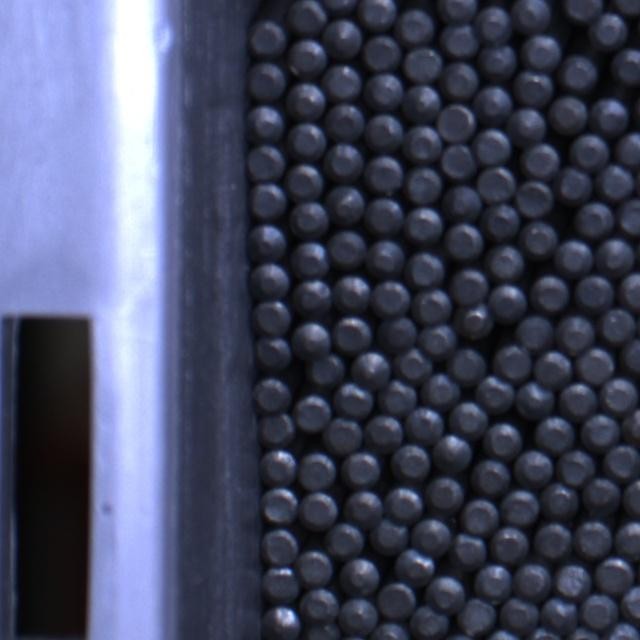tool: (553, 314, 594, 355), (595, 234, 636, 275), (409, 516, 452, 554), (572, 518, 612, 558), (591, 94, 631, 134), (454, 298, 494, 338), (426, 574, 467, 613), (553, 239, 593, 278), (514, 379, 554, 418), (433, 434, 473, 473), (579, 412, 619, 451), (540, 596, 579, 636), (499, 597, 539, 636), (488, 525, 529, 563), (593, 556, 634, 594), (588, 12, 629, 50), (549, 94, 588, 133), (513, 563, 552, 602), (293, 321, 332, 360), (474, 562, 513, 601), (287, 37, 326, 76), (323, 18, 362, 57), (576, 346, 616, 384), (598, 377, 638, 415), (569, 132, 609, 170), (457, 596, 497, 634), (492, 342, 532, 380), (514, 449, 554, 487), (404, 406, 444, 444), (580, 477, 620, 515), (508, 106, 548, 144), (558, 54, 598, 92), (396, 546, 436, 584), (339, 556, 379, 594), (250, 261, 290, 299), (475, 85, 513, 125), (438, 102, 476, 141), (576, 274, 615, 312), (554, 165, 592, 204), (383, 487, 422, 525), (459, 496, 498, 534), (334, 316, 373, 354), (345, 488, 383, 527), (530, 274, 569, 312), (330, 230, 368, 269), (328, 185, 366, 224), (339, 598, 378, 636), (485, 422, 524, 460), (447, 220, 486, 258), (501, 489, 541, 526), (369, 518, 409, 555), (412, 288, 452, 325), (540, 481, 580, 518), (395, 347, 435, 384), (363, 413, 403, 450), (376, 378, 417, 414), (300, 491, 338, 529), (488, 283, 526, 321), (328, 102, 366, 140), (367, 112, 405, 150), (287, 82, 325, 120), (334, 274, 372, 312), (248, 18, 286, 56), (294, 393, 333, 430), (299, 452, 338, 489), (576, 201, 615, 238), (378, 580, 417, 617), (372, 280, 411, 317), (553, 561, 592, 598), (537, 415, 576, 452), (352, 350, 391, 387), (427, 476, 466, 513), (398, 8, 437, 45), (404, 124, 443, 161), (443, 183, 482, 220), (475, 3, 512, 42), (326, 522, 366, 558), (556, 448, 596, 484), (408, 604, 448, 640), (420, 370, 460, 406), (535, 351, 573, 388), (602, 444, 639, 482), (598, 308, 636, 345), (262, 527, 300, 564), (450, 346, 487, 384), (285, 164, 323, 201), (476, 373, 514, 410), (247, 144, 284, 182), (248, 62, 286, 99), (288, 200, 326, 237), (450, 268, 488, 305), (334, 380, 372, 417), (248, 224, 286, 261), (261, 450, 298, 488), (515, 179, 554, 215), (579, 594, 618, 630), (596, 167, 635, 203), (324, 418, 363, 454), (477, 168, 516, 204), (420, 322, 459, 358), (522, 34, 561, 70), (449, 402, 488, 438), (378, 315, 417, 351), (288, 123, 325, 160), (452, 533, 489, 570), (533, 522, 571, 558), (516, 313, 554, 349), (558, 382, 596, 418), (393, 444, 431, 480), (366, 156, 404, 192), (408, 251, 446, 287), (404, 204, 442, 240), (365, 71, 403, 107), (486, 245, 524, 281), (368, 239, 406, 275), (366, 196, 404, 232), (303, 585, 341, 621), (325, 144, 363, 180), (522, 142, 560, 178), (404, 84, 442, 120), (292, 240, 330, 276), (472, 458, 511, 493), (262, 487, 299, 523), (255, 376, 292, 412), (295, 548, 332, 584), (326, 64, 363, 100), (262, 605, 300, 640), (364, 34, 402, 69), (343, 451, 381, 486), (404, 46, 442, 81), (254, 300, 292, 335), (442, 22, 480, 57), (286, 0, 326, 33), (406, 166, 442, 202), (522, 222, 558, 258), (250, 106, 286, 142), (260, 410, 296, 446), (263, 565, 300, 600), (256, 334, 293, 369), (518, 70, 556, 104), (292, 278, 330, 312), (476, 128, 512, 163), (252, 183, 288, 218), (444, 62, 479, 98), (512, 0, 552, 31), (358, 0, 397, 30), (441, 143, 475, 177), (308, 354, 344, 386), (611, 48, 640, 86), (614, 518, 640, 560), (438, 0, 479, 24), (560, 0, 604, 22), (616, 196, 640, 234), (618, 270, 640, 311), (615, 129, 640, 165), (369, 621, 411, 640), (620, 585, 640, 623), (621, 407, 640, 447), (622, 475, 640, 517), (599, 621, 638, 640), (621, 338, 640, 374), (564, 626, 601, 640), (522, 628, 564, 640), (608, 1, 640, 16), (483, 629, 523, 640), (441, 634, 477, 640)
